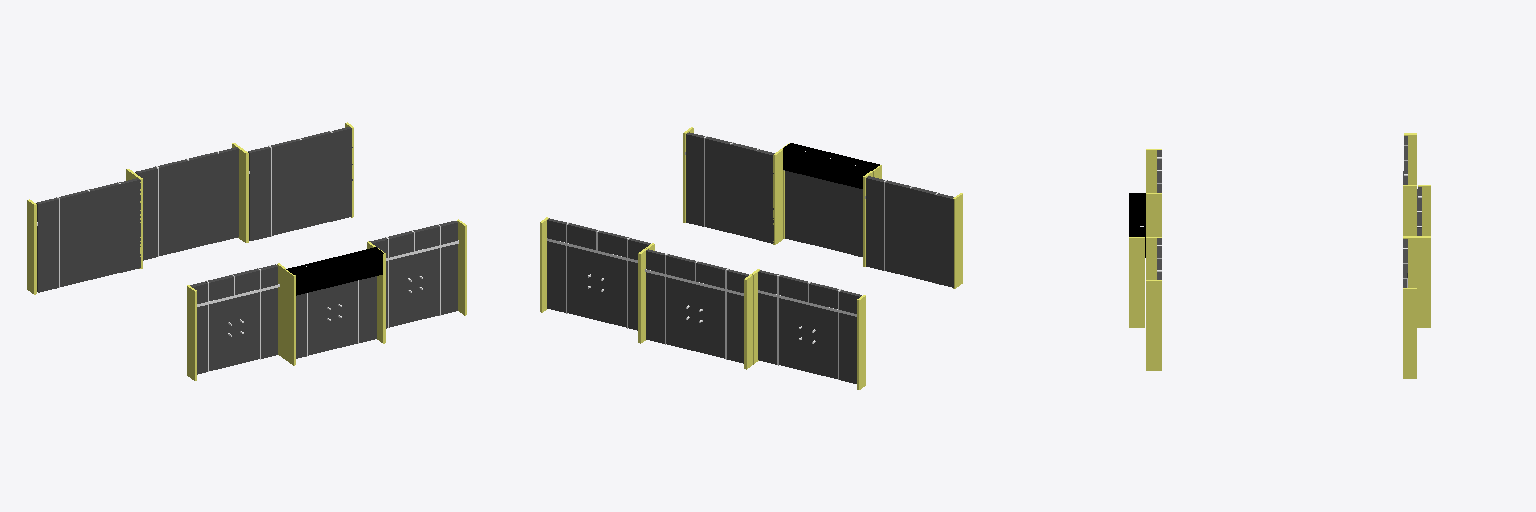
The model's file is nhagiuatang1.obj.
The picture shows the model from 3 angles: view 1: azimuth 30°, elevation 25°; view 2: azimuth 150°, elevation 25°; view 3: azimuth 270°, elevation 25°; orthographic projection.
Visible parts, largest first — view 1: obj61, obj76, obj92, obj60, obj93, obj77, obj49, obj12, obj44, obj11, obj43, obj91 (+19 smaller); view 2: obj93, obj61, obj77, obj76, obj60, obj92, obj49, obj12, obj44, obj43, obj11, obj28 (+19 smaller); view 3: obj2, obj18, obj66, obj82, obj49, obj50, obj34.
Part boxes in pixels (bbox=[...]): obj61: bbox=[59, 190, 90, 286]; obj76: bbox=[189, 152, 219, 248]; obj92: bbox=[301, 131, 332, 228]; obj60: bbox=[89, 183, 120, 279]; obj93: bbox=[271, 139, 301, 235]; obj77: bbox=[158, 159, 188, 255]; obj49: bbox=[286, 247, 383, 295]; obj12: bbox=[411, 225, 439, 320]; obj44: bbox=[233, 269, 259, 364]; obj11: bbox=[386, 231, 413, 327]; obj43: bbox=[205, 275, 233, 370]; obj91: bbox=[248, 147, 270, 240]; obj93: bbox=[596, 231, 628, 327]; obj61: bbox=[808, 282, 838, 378]; obj77: bbox=[695, 262, 726, 358]; obj76: bbox=[664, 254, 695, 350]; obj60: bbox=[779, 275, 807, 371]; obj92: bbox=[567, 223, 597, 319]; obj49: bbox=[783, 143, 879, 188]; obj12: bbox=[705, 137, 731, 232]; obj44: bbox=[885, 180, 910, 276]; obj43: bbox=[911, 187, 938, 282]; obj11: bbox=[731, 143, 759, 239]; obj28: bbox=[803, 175, 828, 248]; obj2: bbox=[1146, 280, 1161, 370]; obj18: bbox=[1129, 237, 1144, 327]; obj66: bbox=[1417, 236, 1430, 327]; obj82: bbox=[1403, 288, 1416, 378]; obj49: bbox=[1129, 193, 1145, 257]; obj50: bbox=[1403, 185, 1416, 235]; obj34: bbox=[1146, 193, 1161, 236].
Bounding box in the file's own units: 121 × 32.65 × 99.12.